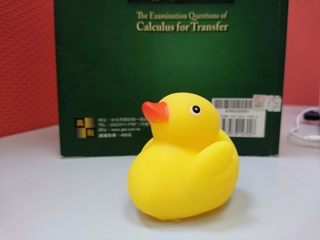duck: (120, 92, 246, 221)
